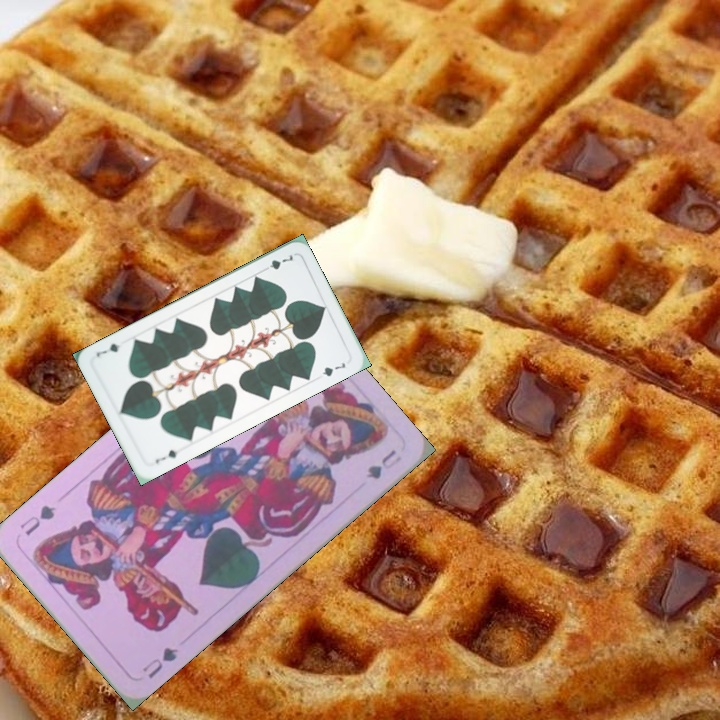G7: (258, 251, 297, 274), (151, 445, 180, 466)
GU: (138, 643, 180, 682)
